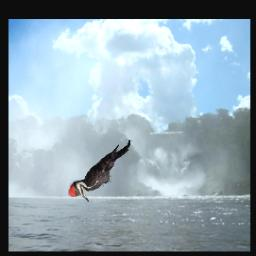Woodpecker: (69, 140, 134, 202)
